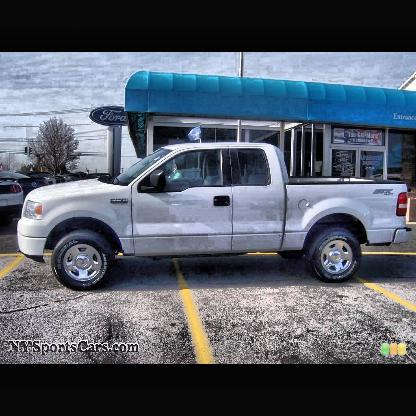Ford F-150 Regular Cab 2007: (17, 143, 415, 291)
